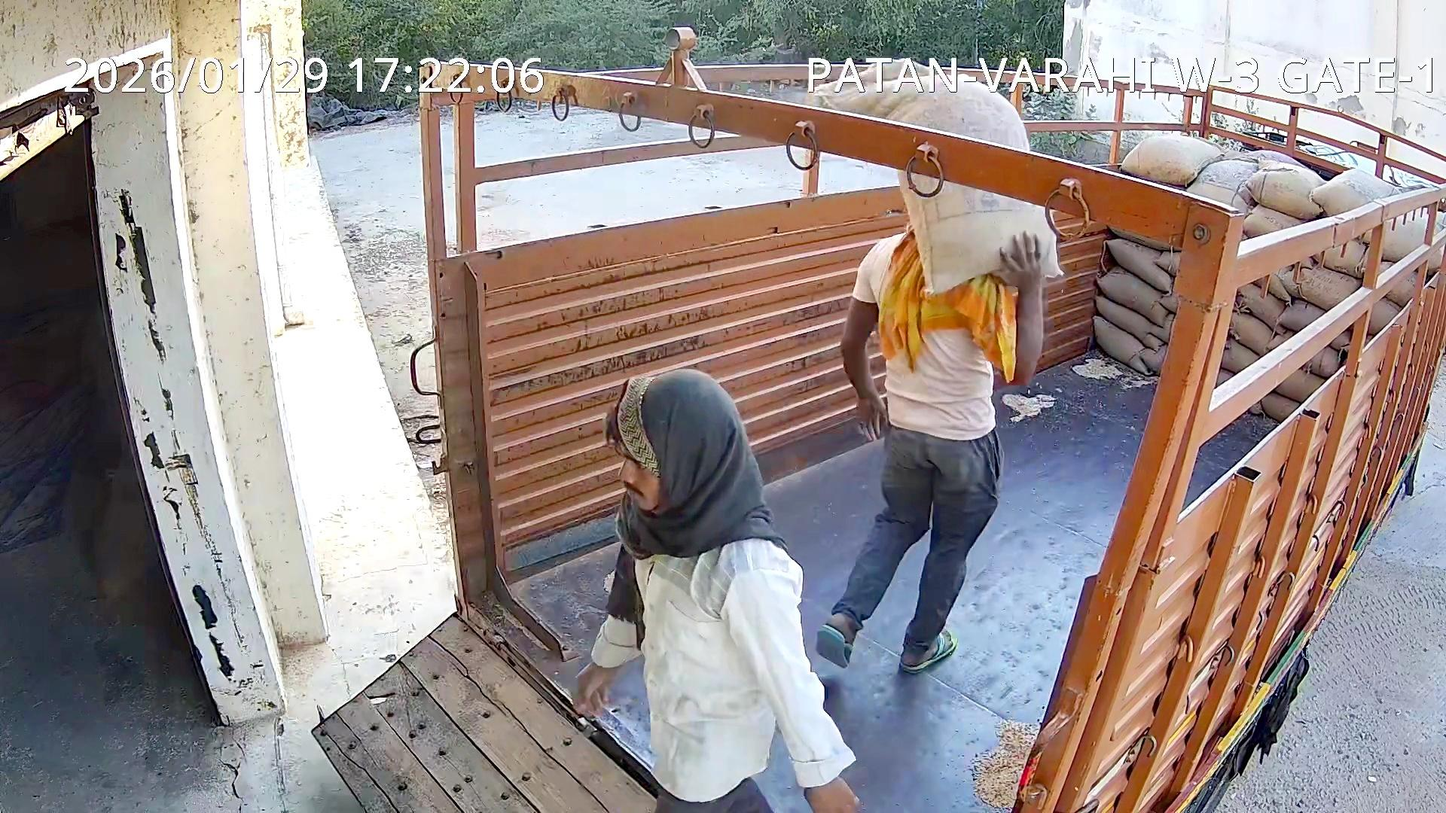Sack: (898, 151, 1054, 292), (813, 68, 1030, 151)
